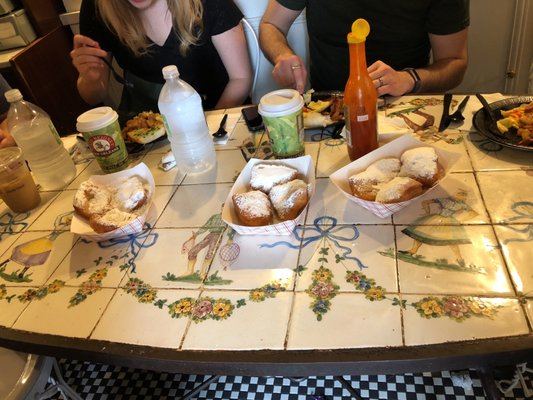sandwich: (439, 95, 470, 132), (439, 91, 455, 132)
